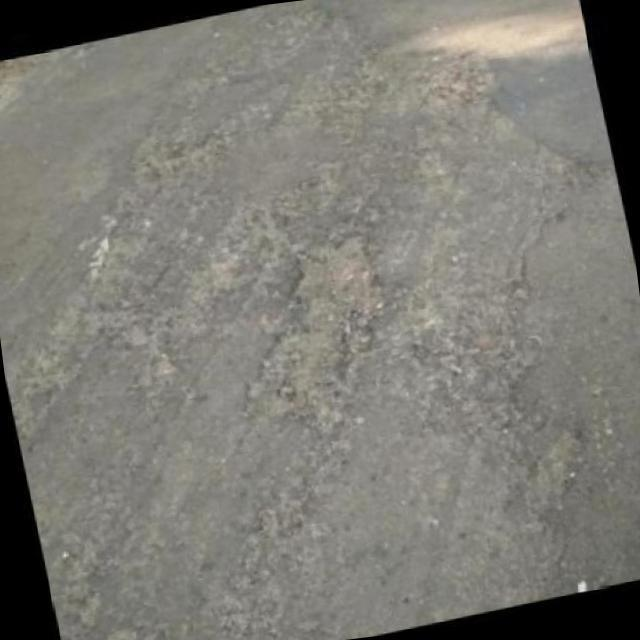Pothole: (245, 241, 373, 428)
